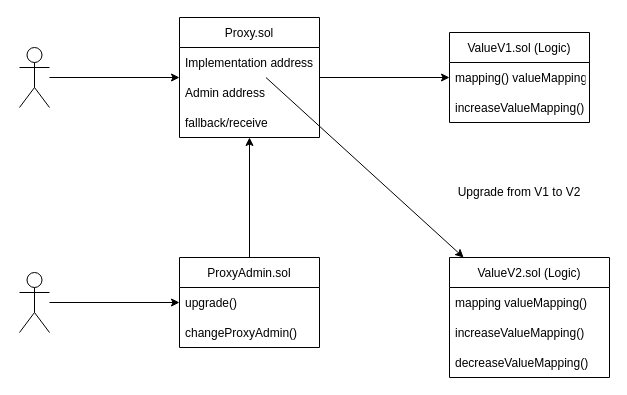
Some shapes in this 627 by 395 pixel diagram are drawn without their labels. The centre of each missing label's shape, as x and y in pixels:
Admin: [34,302]
User: [34,77]
